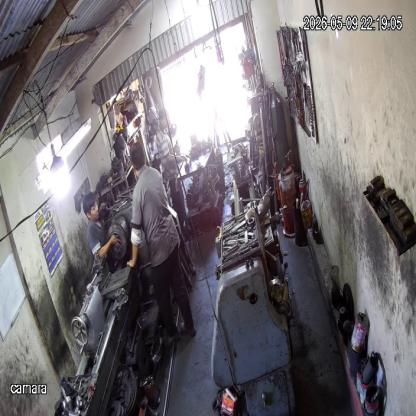sin_lentes: (88, 202, 100, 213)
